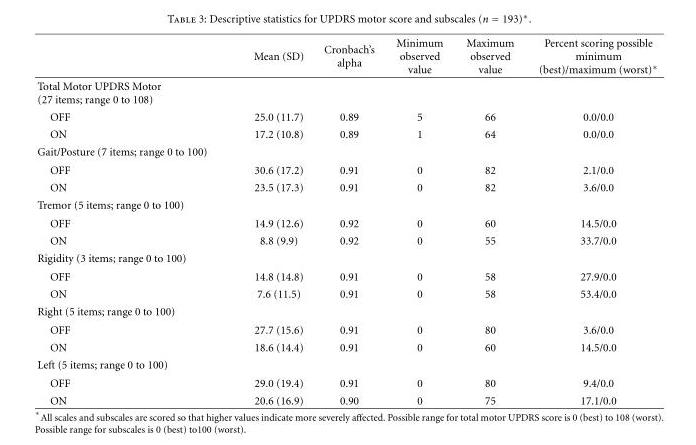table: (36, 36, 656, 406)
table column: (36, 36, 229, 406), (525, 36, 656, 406), (229, 36, 313, 406), (453, 36, 525, 406), (313, 36, 384, 406), (384, 36, 453, 406)
table column header: (36, 36, 656, 77)
table projected row header: (36, 77, 656, 107), (36, 142, 656, 160), (36, 195, 656, 213), (36, 249, 656, 267), (36, 302, 656, 320), (36, 355, 656, 373)
table row: (36, 36, 656, 77), (36, 77, 656, 107), (36, 107, 656, 125), (36, 142, 656, 160), (36, 160, 656, 178), (36, 195, 656, 213), (36, 213, 656, 231), (36, 231, 656, 249), (36, 249, 656, 267), (36, 284, 656, 302), (36, 302, 656, 320), (36, 320, 656, 338), (36, 355, 656, 373), (36, 373, 656, 391), (36, 125, 656, 142), (36, 178, 656, 195), (36, 267, 656, 284), (36, 338, 656, 355), (36, 391, 656, 406)
